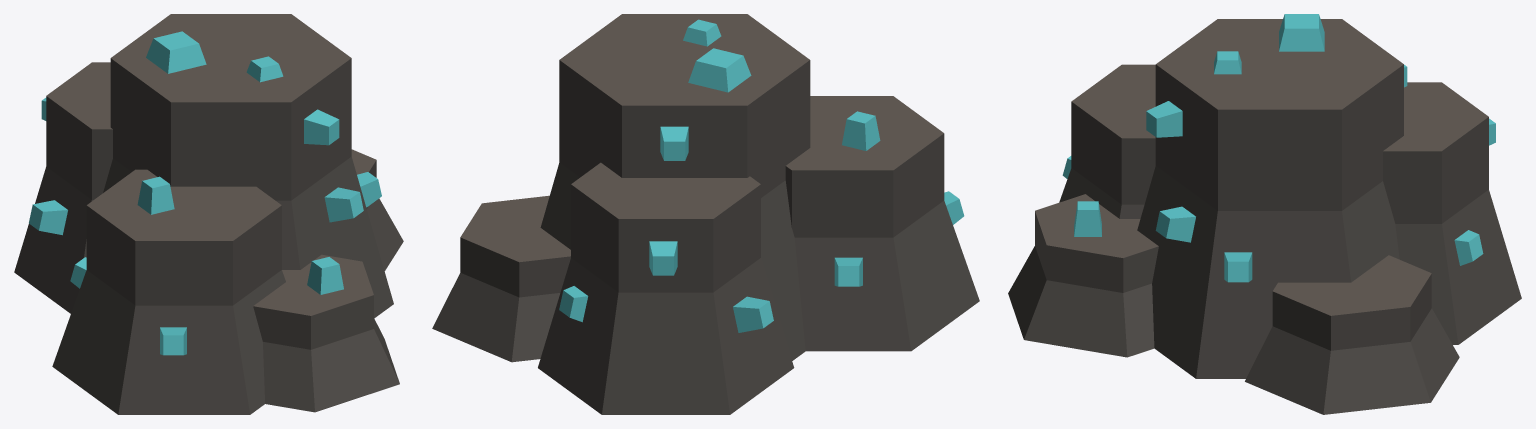
The model's file is station_ore.glb.
3 renders of one model, left to right at view 1: azimuth 30°, elevation 25°; view 2: azimuth 150°, elevation 25°; view 3: azimuth 270°, elevation 25°, orthographic. The views are drawn at different scales.
Parts seen in each view (by area): view 1: body; view 2: body; view 3: body.
Part boxes in pixels (<box>): body: <box>14,14,403,414</box>; body: <box>432,14,979,414</box>; body: <box>1008,14,1521,414</box>.
Size of the model in its own units: 0.8339 by 0.541 by 0.9193.
